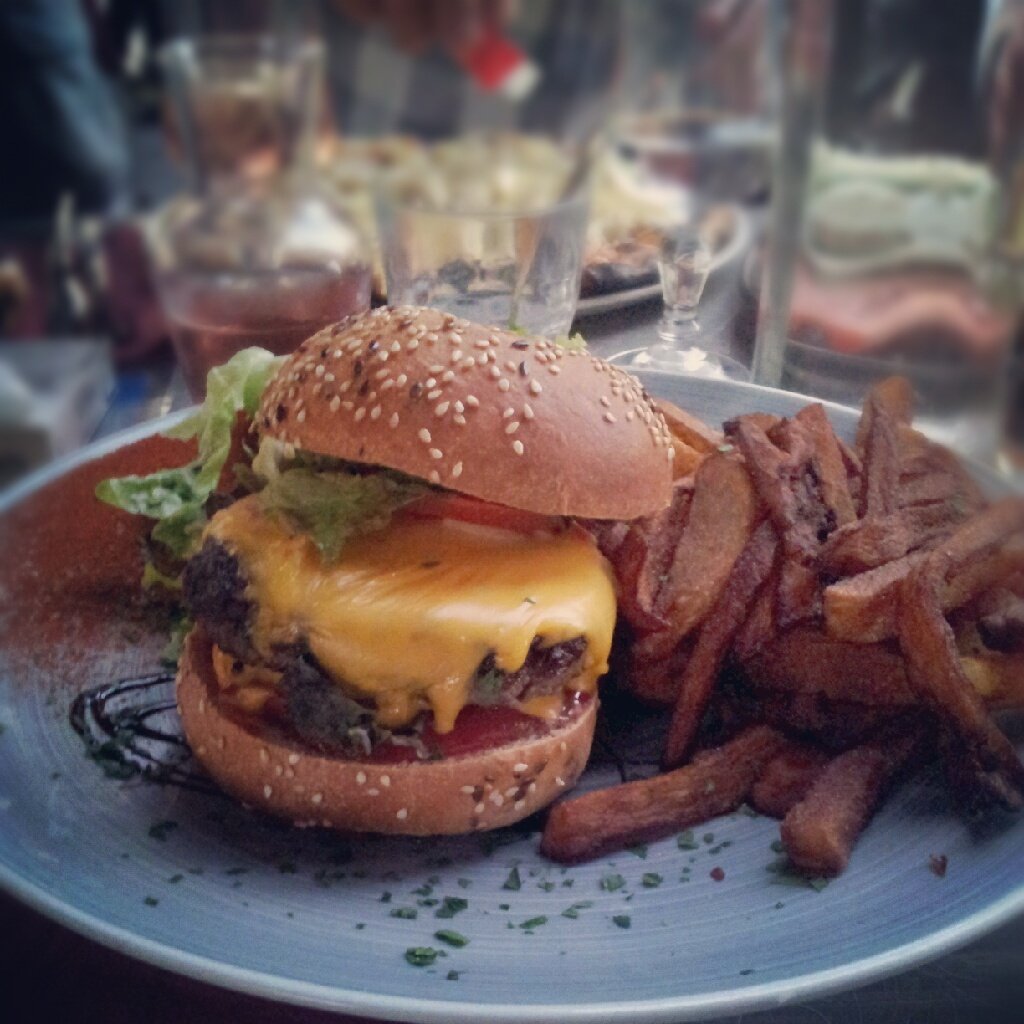Hamburger: (174, 302, 675, 839)
